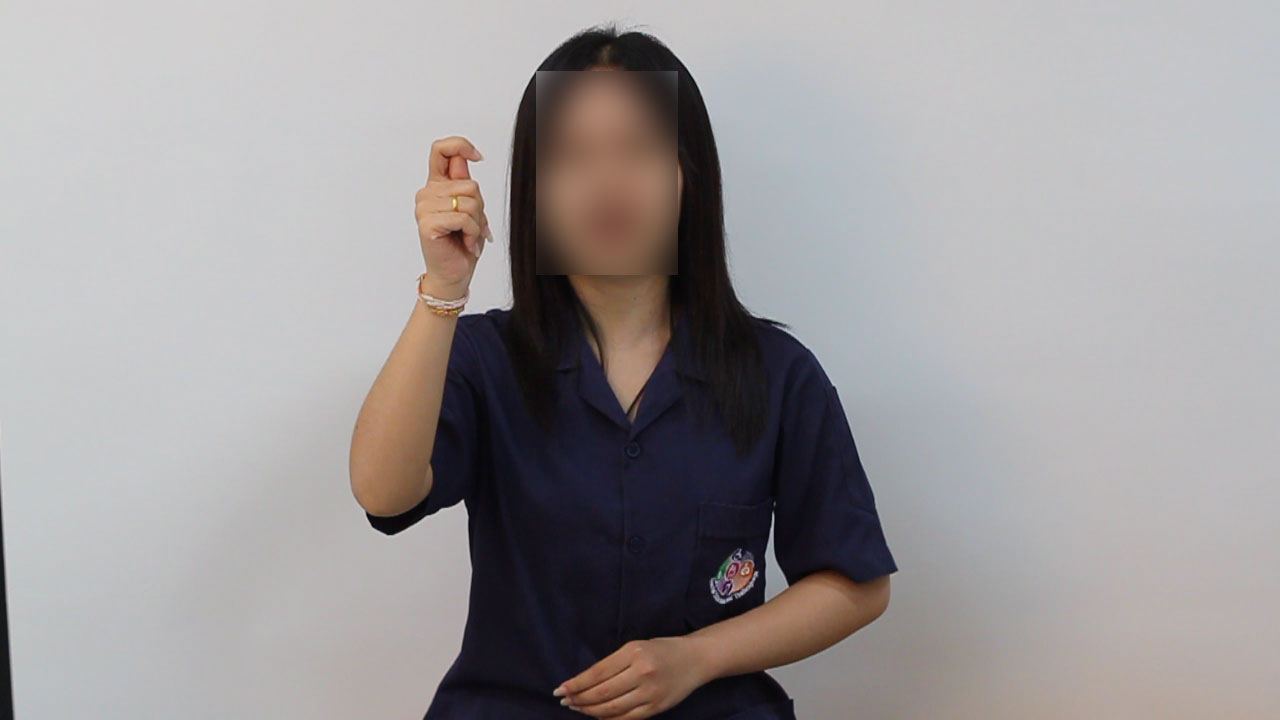or: (412, 132, 497, 295)
